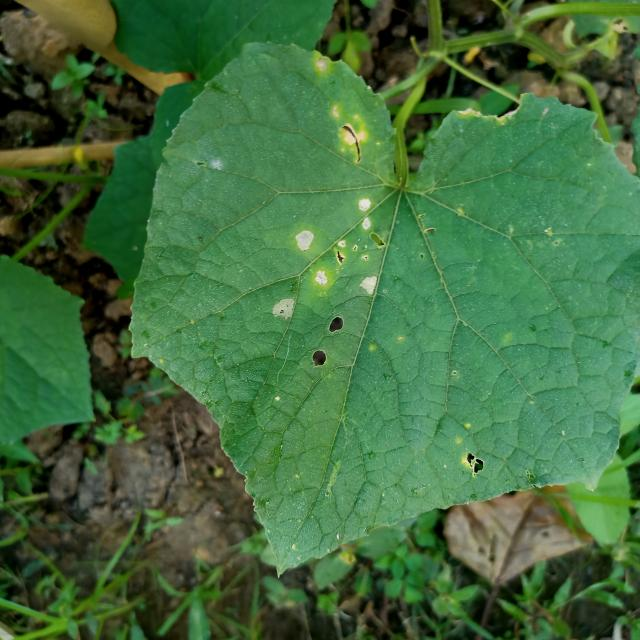disease_cucumber: (260, 184, 399, 322)
